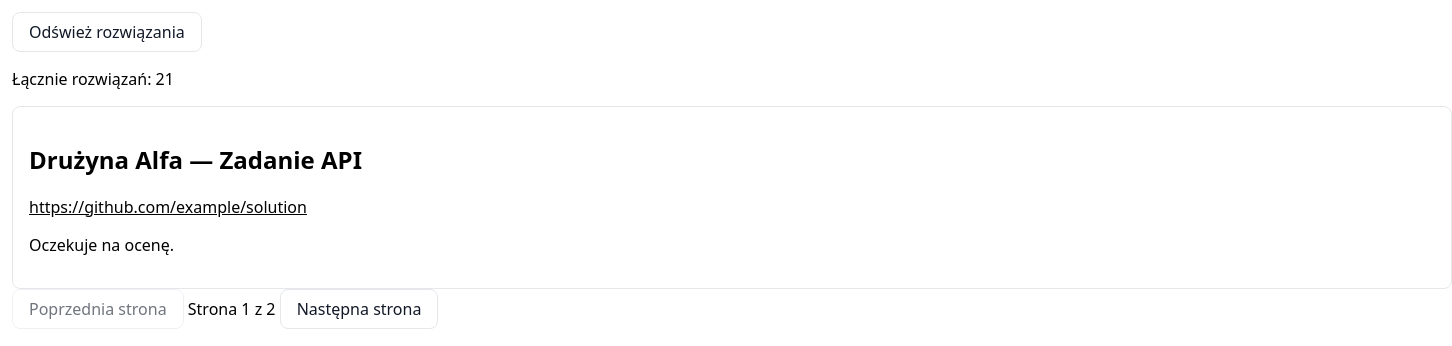
Test: SubmissionList › loads only the selected page and hides forms during the event
This screenshot has width=1452, height=346.
Expected: the heading "Drużyna Alfa — Zadanie API" is shown, [29, 143, 362, 176]
Click the button "Następna strona": point(359, 309) [280, 289, 438, 329]
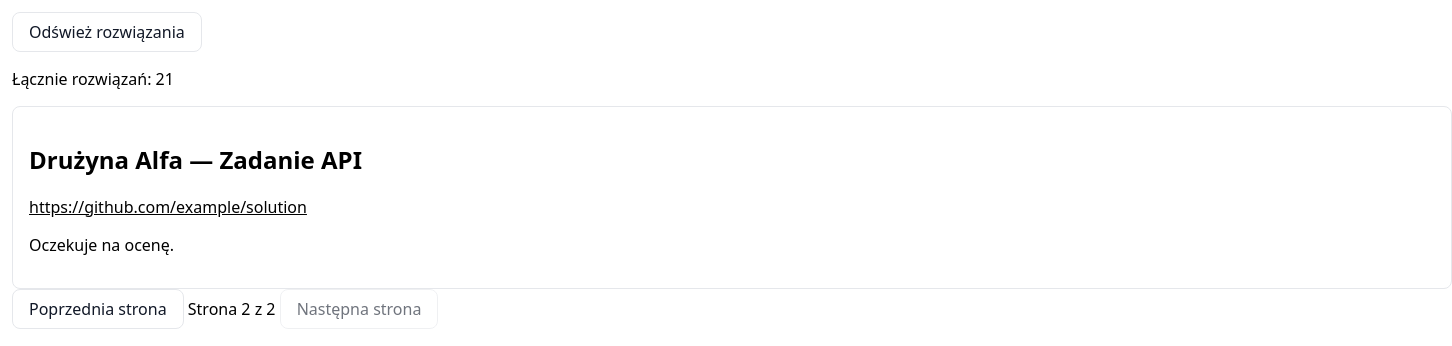
Result: the text "Strona 2 z 2" is shown at [184, 298, 280, 320]
